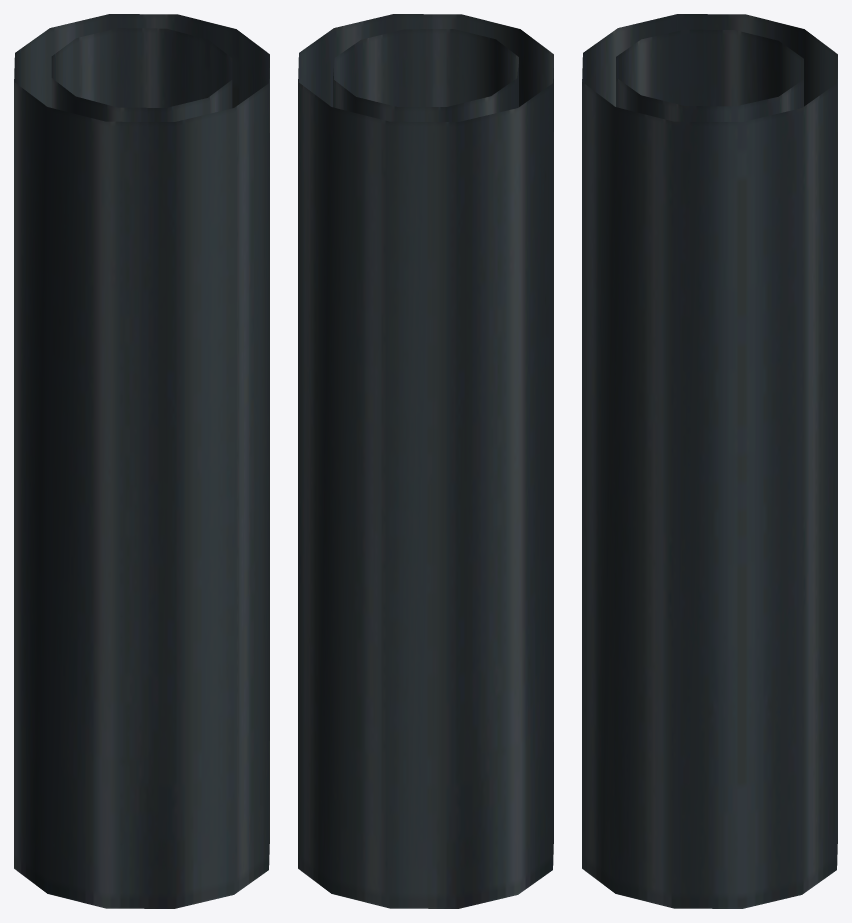
File: startpoint2.glb
3 renders of one model, left to right at view 1: azimuth 30°, elevation 25°; view 2: azimuth 150°, elevation 25°; view 3: azimuth 270°, elevation 25°, orthographic.
Parts seen in each view (by area): view 1: __lithtech_lh_to_gltf_rh__; view 2: __lithtech_lh_to_gltf_rh__; view 3: __lithtech_lh_to_gltf_rh__.
Boxes of the visible parts, x1,y1,x2,y2 form: __lithtech_lh_to_gltf_rh__: (14, 14, 269, 908); __lithtech_lh_to_gltf_rh__: (298, 14, 553, 908); __lithtech_lh_to_gltf_rh__: (582, 14, 837, 908).
Size of the model in its own units: 34.24 by 116 by 34.24.
1 material, 1 textured.
